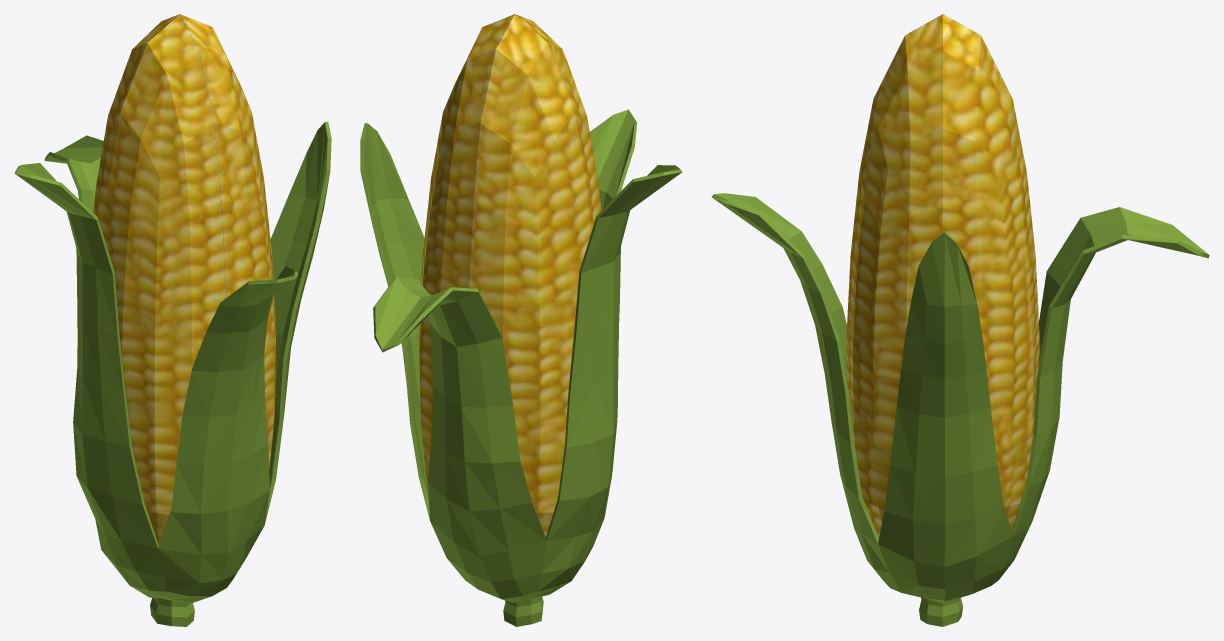
The model's file is food_corn_polygoogle.glb.
The picture shows the model from 3 angles, left to right: view 1: azimuth 30°, elevation 25°; view 2: azimuth 150°, elevation 25°; view 3: azimuth 270°, elevation 25°; orthographic projection.
Parts seen in each view (by area): view 1: Node; view 2: Node; view 3: Node.
Boxes of the visible parts, box(x1,y1,x2,y2) form: Node: box(14, 14, 331, 626); Node: box(360, 14, 682, 626); Node: box(711, 14, 1209, 626).
Size of the model in its own units: 0.1196 by 0.22 by 0.1621.
Materials: 2 (1 with a texture image).
